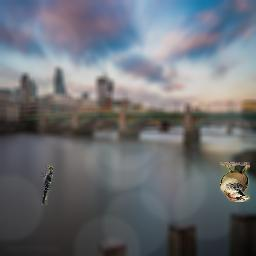Sparrow: (220, 162, 250, 202)
Woodpecker: (41, 165, 53, 205)
